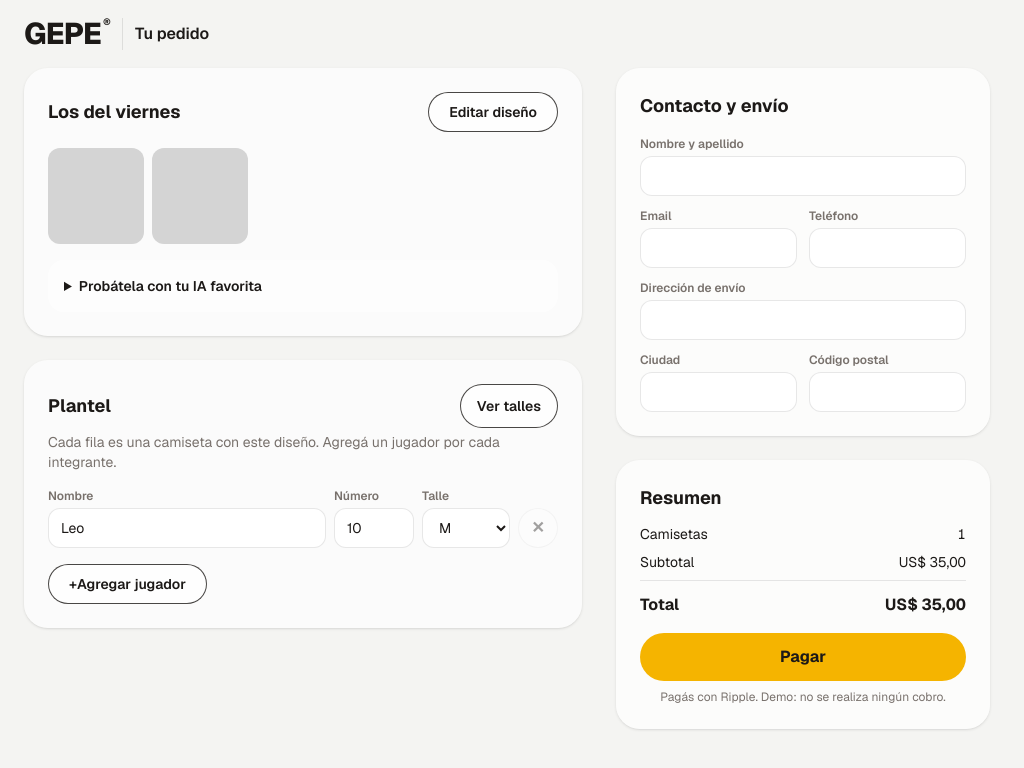
Scenario: CheckoutView › updates the summary as players are added and removed, and saves the order
The width and height of the screenshot is (1024, 768).
Expected: the text "1" is shown, [958, 524, 966, 544]
Click the button "+ Agregar jugador" at coordinates (127, 584), box [48, 564, 207, 604]
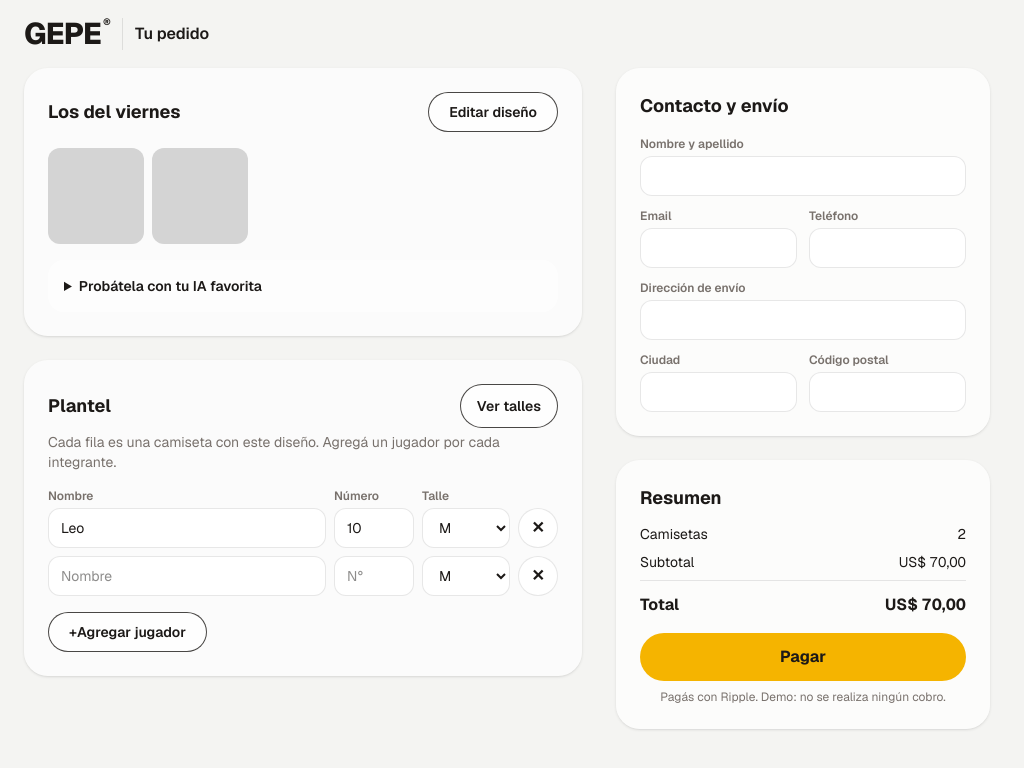
Now the text "2" is shown, box [958, 524, 966, 544]
Click the button named "Quitar jugador 2" at coordinates (538, 576), box [518, 556, 558, 596]
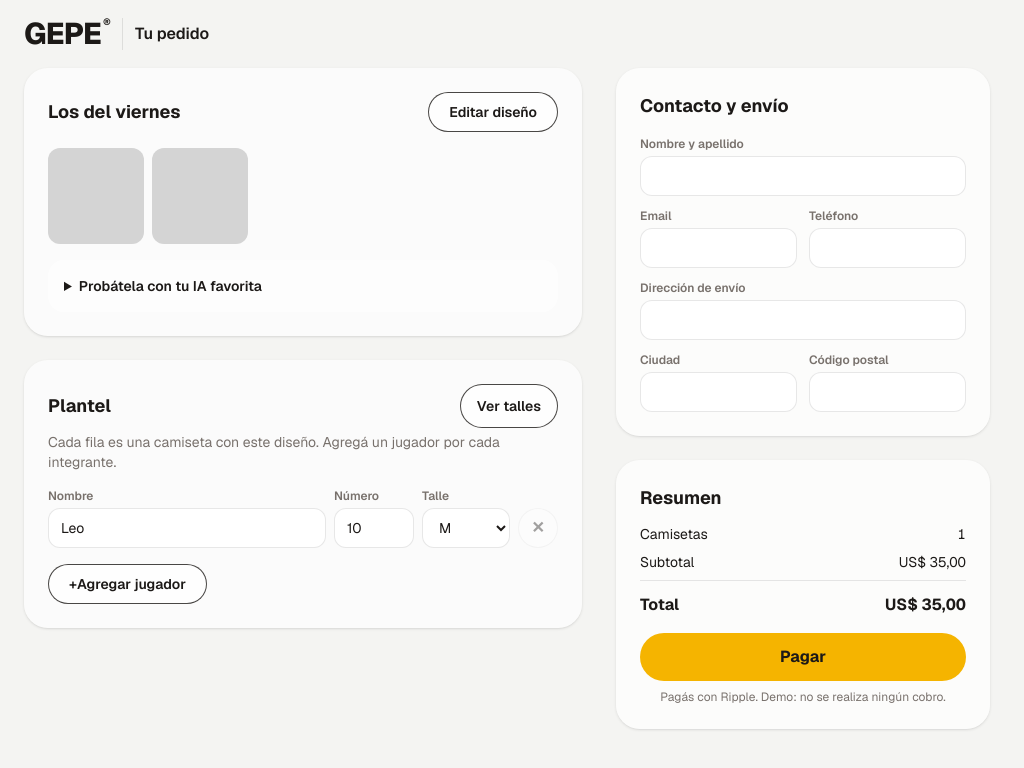
Now the text "1" is shown, box [958, 524, 966, 544]
